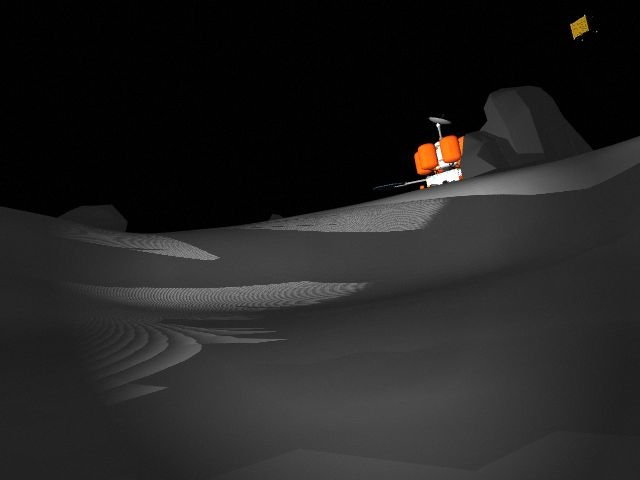cubesat: (564, 7, 609, 48)
